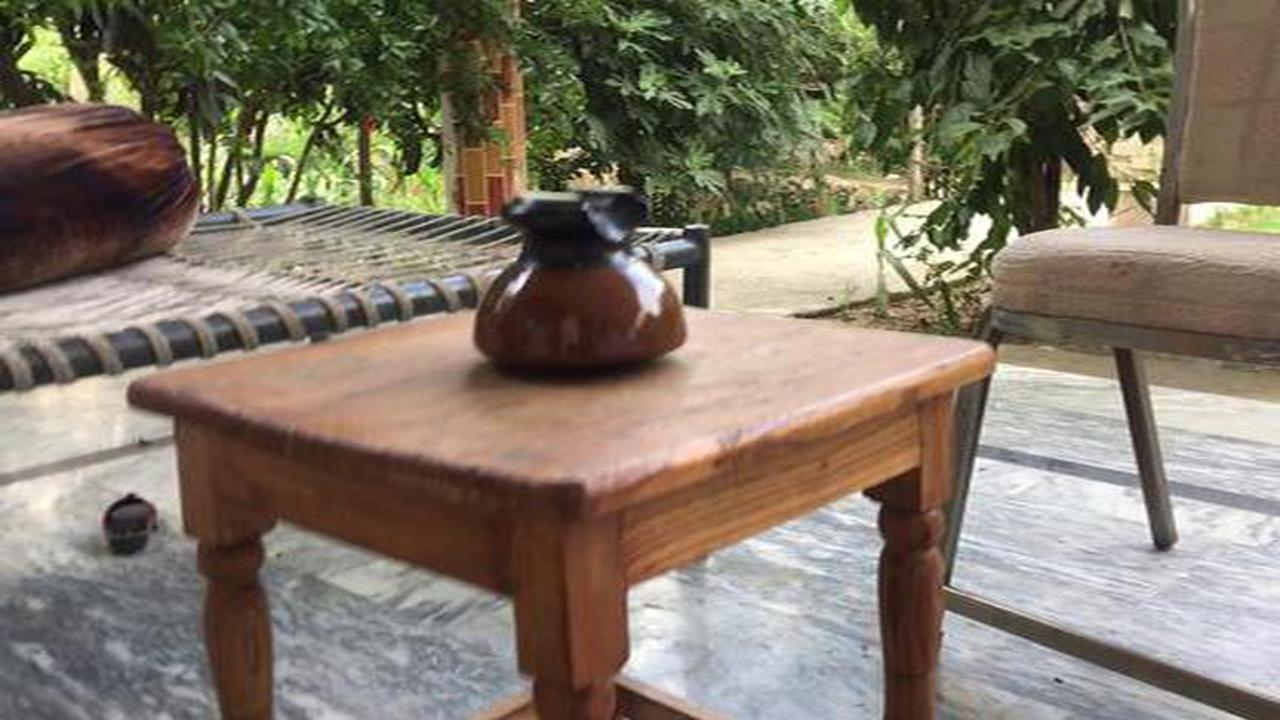insulator_pin: (453, 179, 705, 383)
